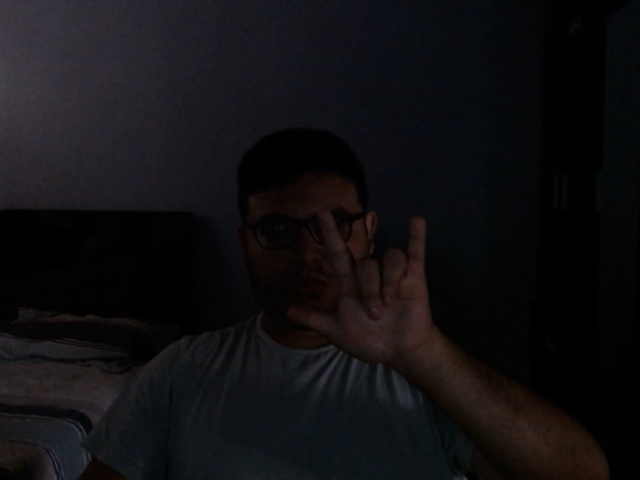I love you: (283, 204, 445, 366)
